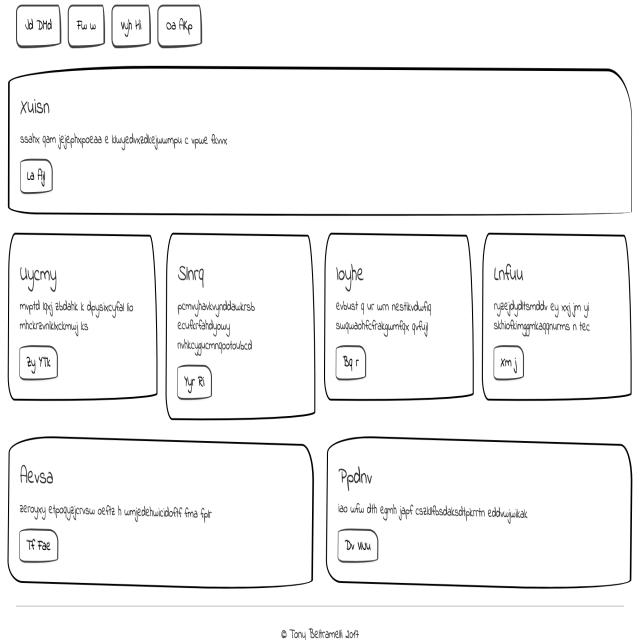Button: (9, 528, 67, 566), (334, 526, 390, 564), (16, 342, 58, 386), (332, 346, 376, 384), (176, 365, 214, 406), (493, 344, 528, 387), (20, 155, 54, 194)
Card: (5, 72, 628, 222), (324, 447, 633, 589), (11, 444, 314, 585), (482, 232, 638, 404), (166, 234, 314, 414), (13, 234, 154, 402), (328, 242, 472, 396)
Footer: (0, 584, 640, 640)
Heading 6: (328, 458, 389, 493), (176, 243, 216, 294), (486, 248, 530, 292), (13, 89, 75, 118), (14, 458, 64, 493), (20, 254, 68, 288), (330, 256, 374, 290)
Navigation Bar: (4, 6, 206, 44)
Paragraph: (335, 495, 537, 528), (11, 126, 244, 152), (488, 294, 605, 340), (17, 297, 144, 339), (170, 297, 261, 355), (16, 500, 224, 524), (333, 297, 441, 339)
